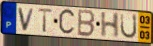B: (77, 9, 97, 39)
C: (58, 8, 77, 37)
H: (100, 11, 121, 39)
T: (37, 8, 54, 34)
U: (120, 12, 138, 40)
V: (17, 7, 37, 32)
